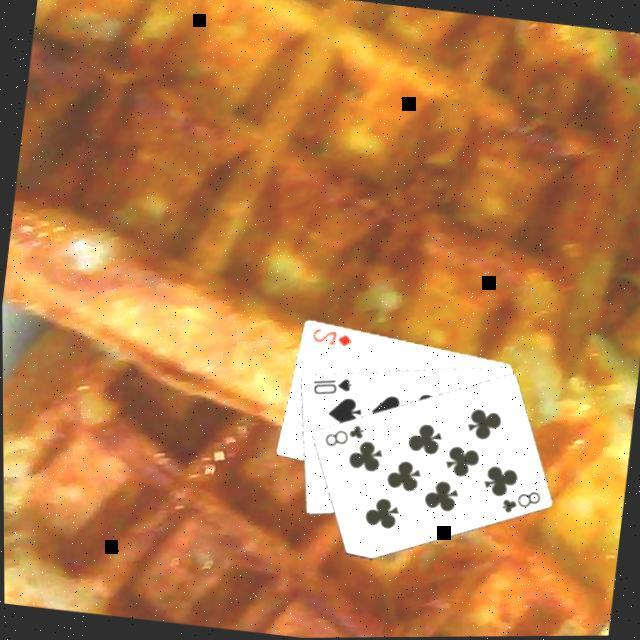10S: (308, 372, 357, 402)
2D: (309, 324, 356, 352)
8C: (320, 418, 368, 454), (497, 486, 544, 522)
